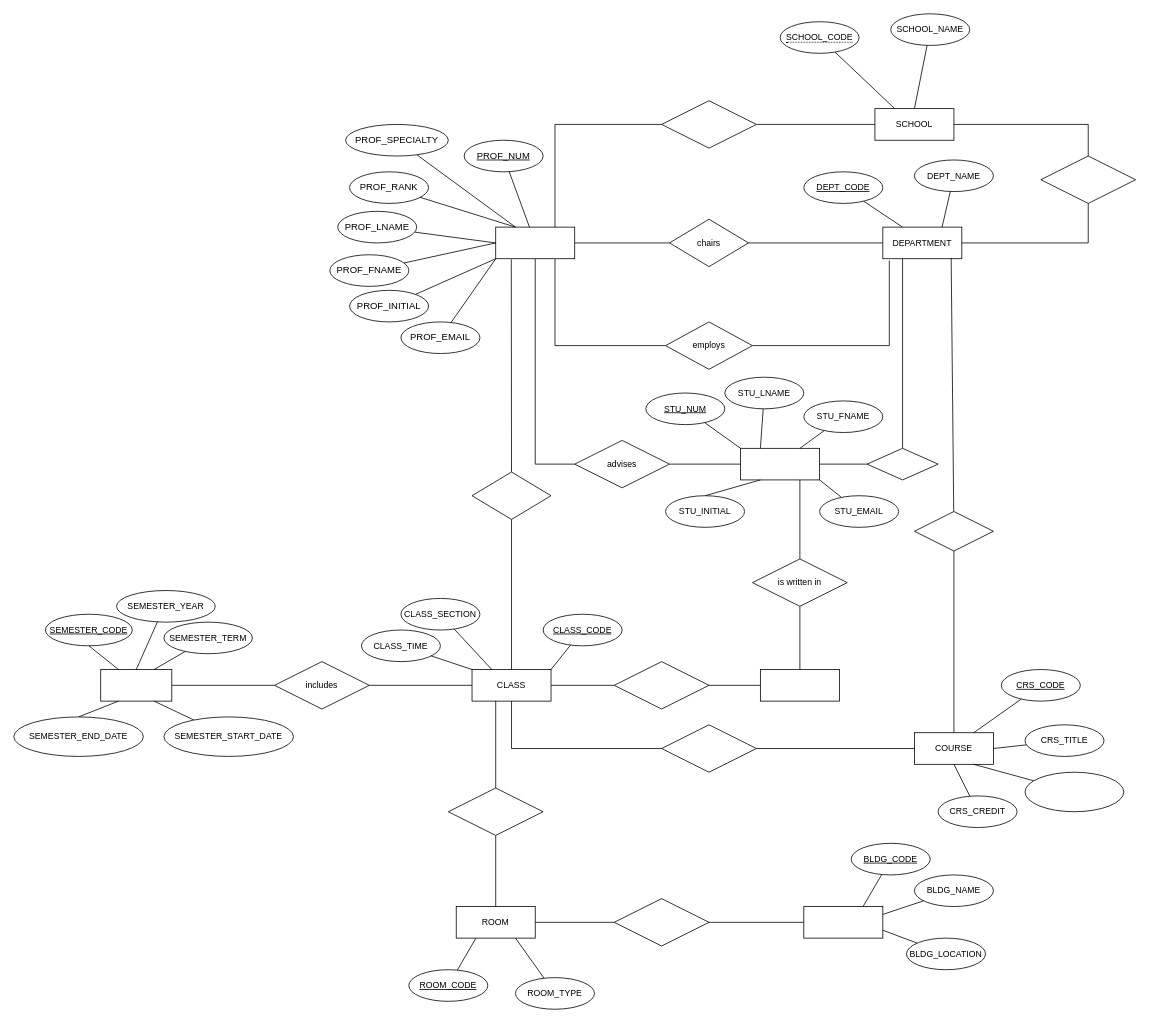
The diagram is 1149 pixels wide and 1023 high, and some of its shapes have lost their labels. The shapes that lost their labels are listed below. From the top down, each one's box as (x1, y1, x2, y2) in pixels, then its label:
(661, 100, 756, 148): is dean of
(1040, 155, 1136, 203): operates
(495, 226, 575, 259): PROFFESSOR
(740, 448, 820, 480): STUDENT
(866, 448, 938, 480): has
(471, 471, 551, 519): teaches
(914, 511, 993, 551): offers
(100, 669, 172, 701): SEMESTER
(613, 661, 709, 709): is found in
(760, 669, 839, 701): ENROLL
(661, 724, 756, 772): generates
(448, 787, 543, 835): is used for
(1024, 771, 1124, 812): CRS_DESCRIPTION
(613, 898, 709, 946): contains
(803, 906, 883, 938): BUILDING
